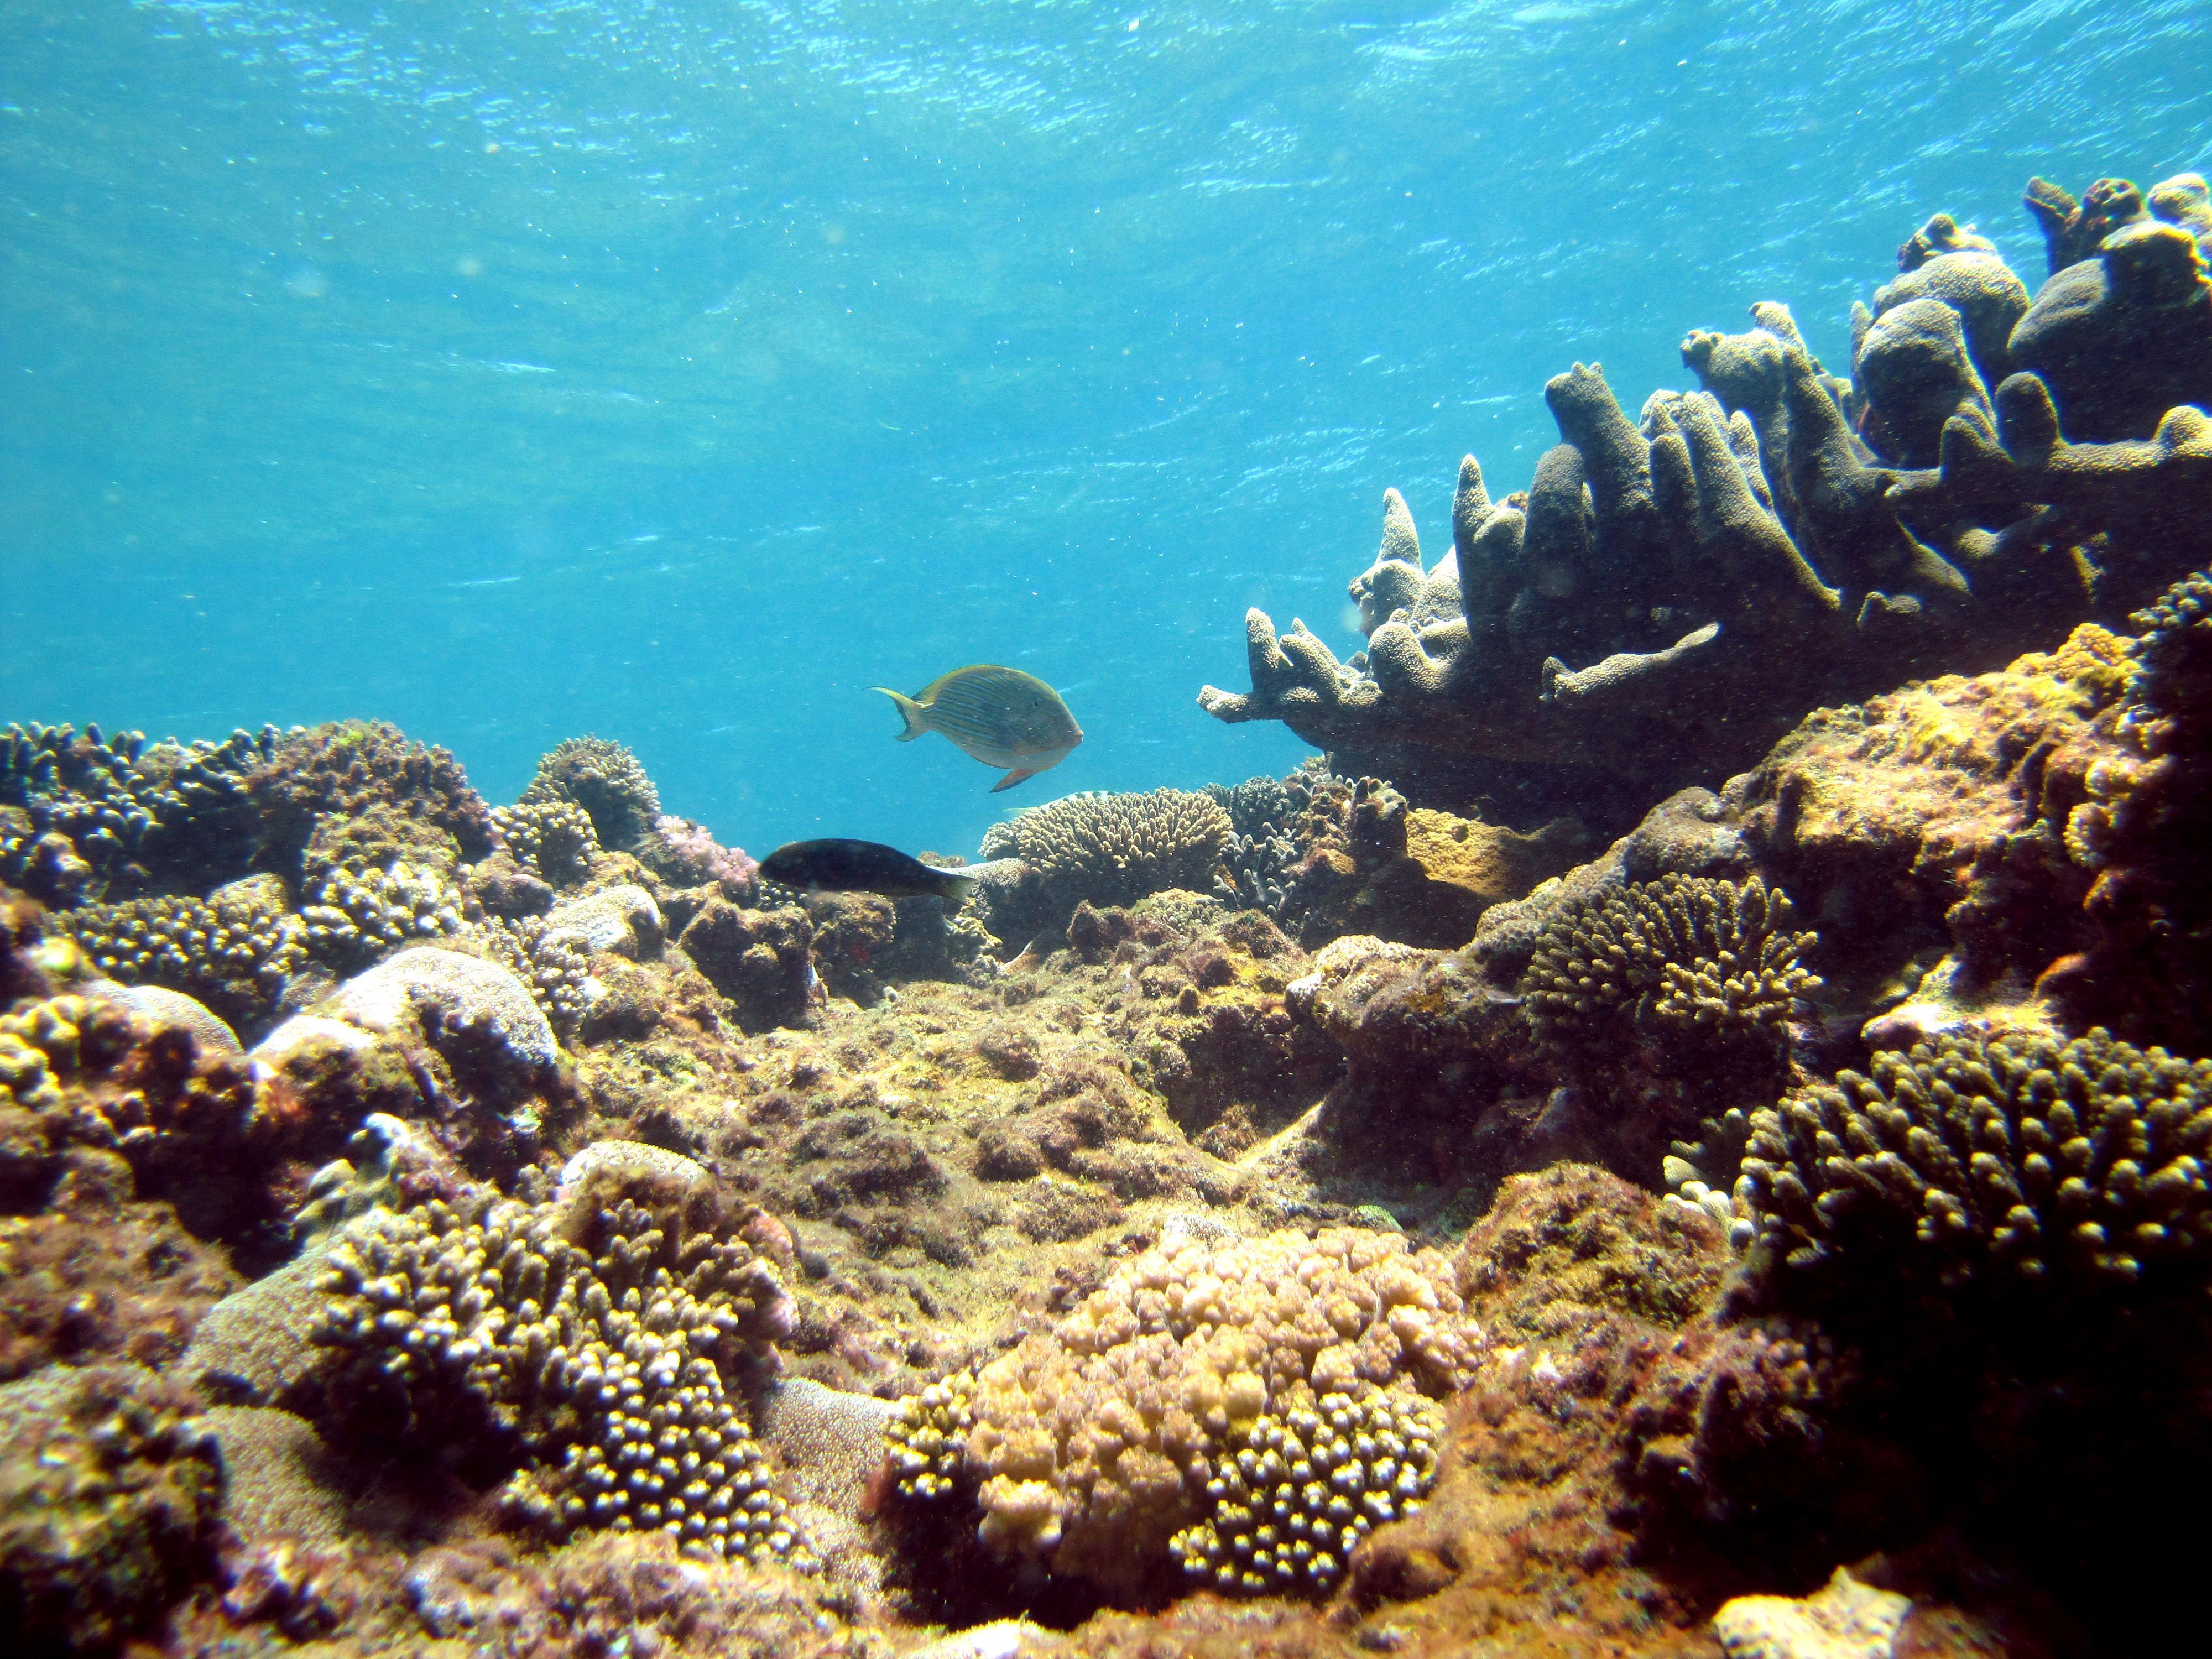Acanthurus lineatus: (867, 660, 1087, 807)
